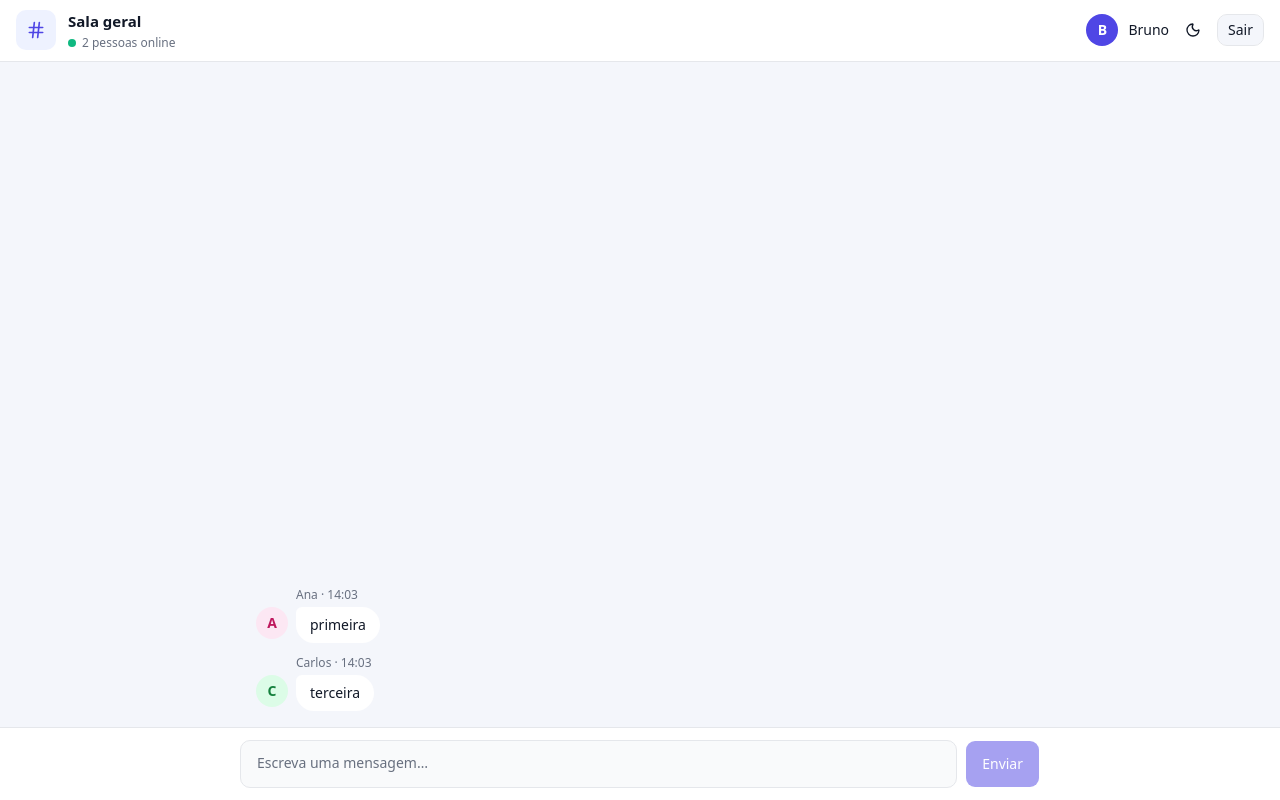
Test: ChatStream › envio otimista (OPT-01, RATE-02) › o aviso de limite sai ao acionar "Tentar de novo" (RATE-02 AC4)
Type "olá" into the text box labelled "mensagem" at (599,764), box [240,740,957,788]
Then press Enter
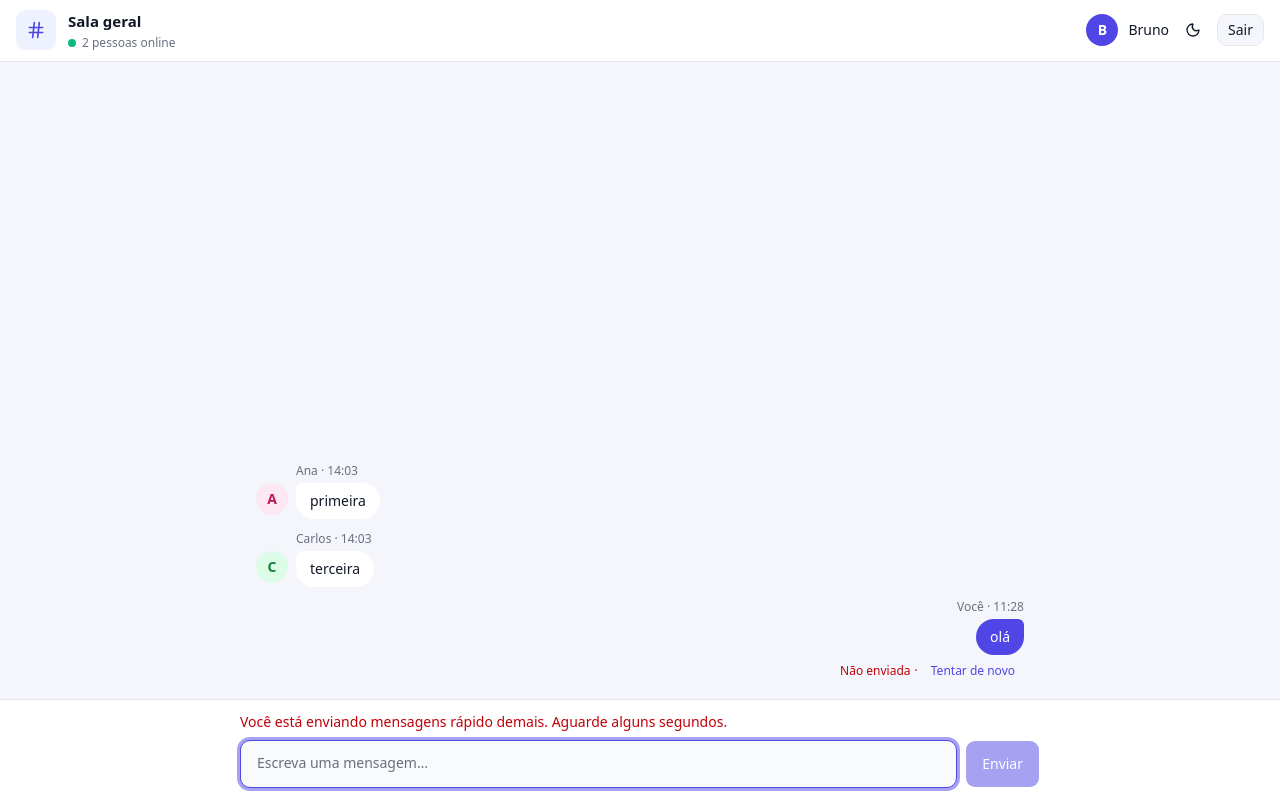
Result: the message reads "Você está enviando mensagens rápido demais. Aguarde alguns segundos." at [240,712,727,731]
Click the button "Tentar de novo" at (973,671), box [922,659,1024,683]
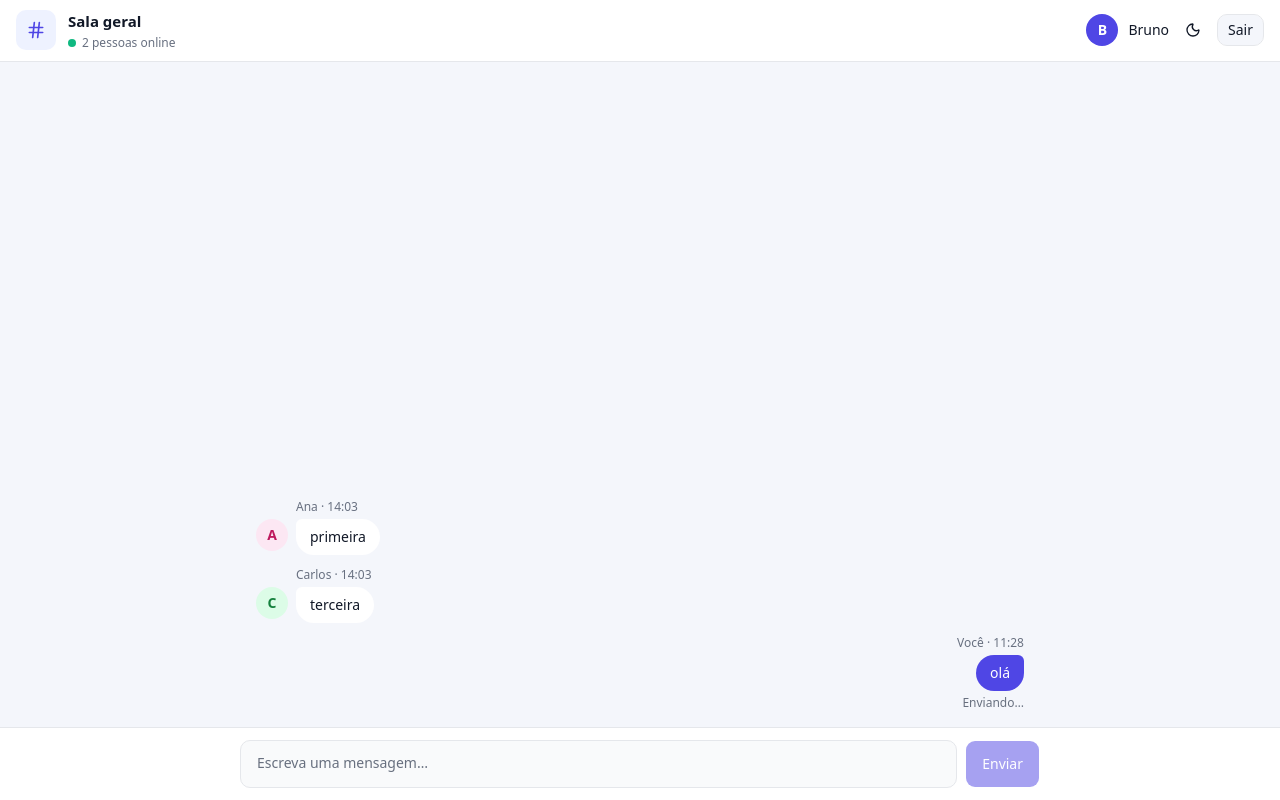
Result: the message "Você está enviando mensagens rápido demais. Aguarde alguns segundos." is gone
Result: the text "Enviando…" is shown at [962,695,1024,711]
